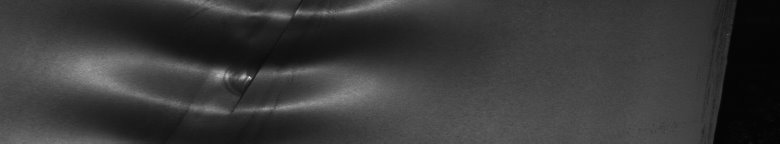ke: (52, 4, 428, 136)
